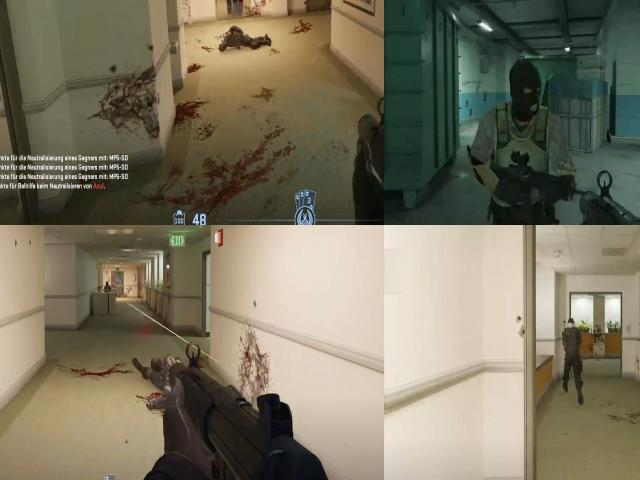CT: (561, 313, 586, 368)
CT-Head: (564, 316, 578, 332)
Dead: (218, 19, 274, 54)
T: (473, 89, 571, 222), (101, 279, 112, 292)
T-Head: (503, 51, 547, 122)
